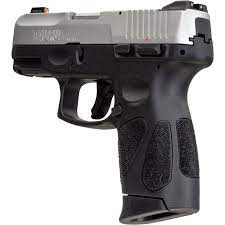gun: (10, 1, 214, 225)
